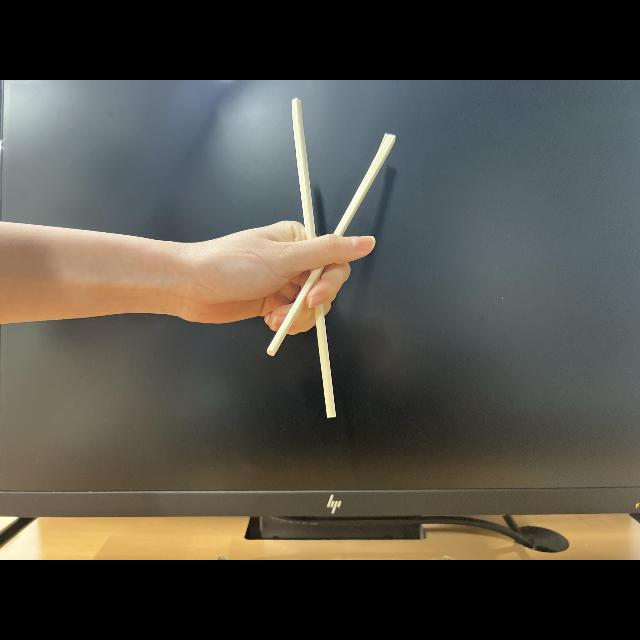stick: (232, 97, 398, 420)
